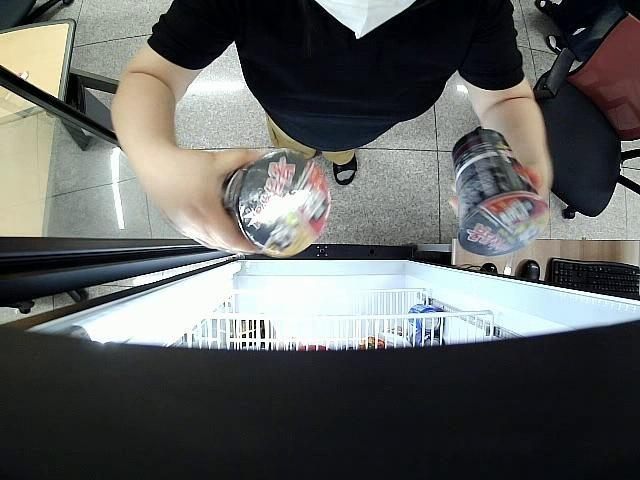08_buldak_S: (446, 133, 547, 254), (230, 150, 333, 253)
